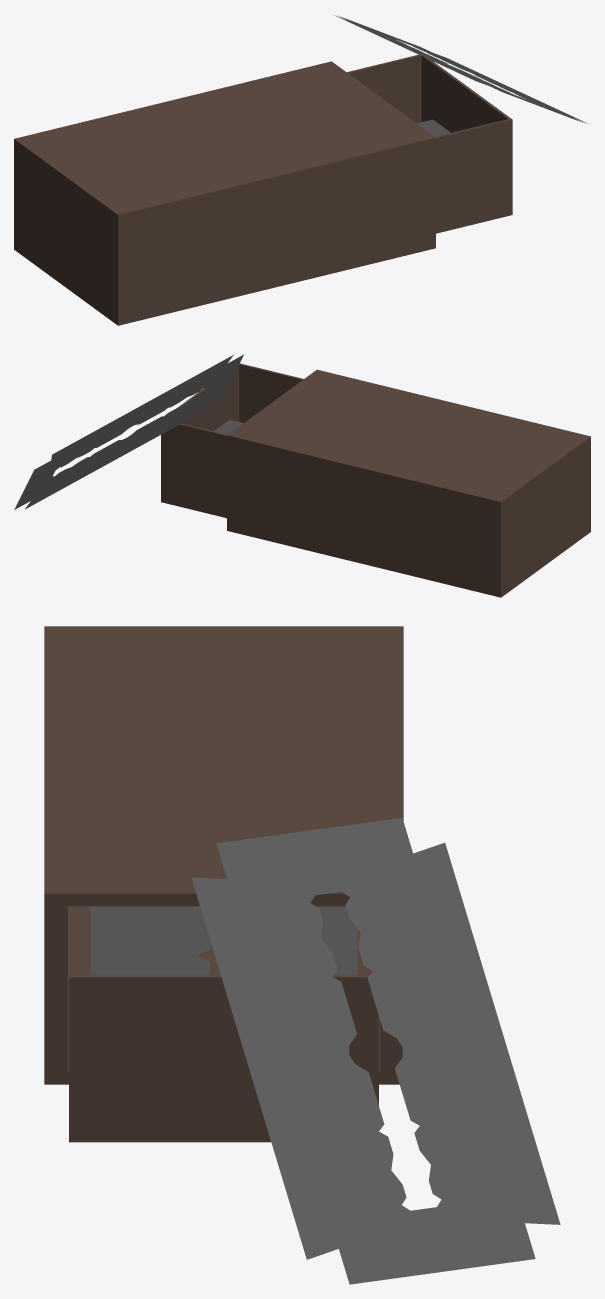
The model's file is RazorBox.fbx.
The picture shows the model from 3 angles, top to bottom: view 1: azimuth 30°, elevation 25°; view 2: azimuth 150°, elevation 25°; view 3: azimuth 270°, elevation 25°; orthographic projection. The views are drawn at different scales.
Parts seen in each view (by area): view 1: pPlane10; view 2: pPlane10; view 3: pPlane10.
Part boxes in pixels (<box>): pPlane10: <box>14,15,587,325</box>; pPlane10: <box>14,354,590,597</box>; pPlane10: <box>44,626,560,1284</box>.
Size of the model in its own units: 83.07 by 22.32 by 38.65.
